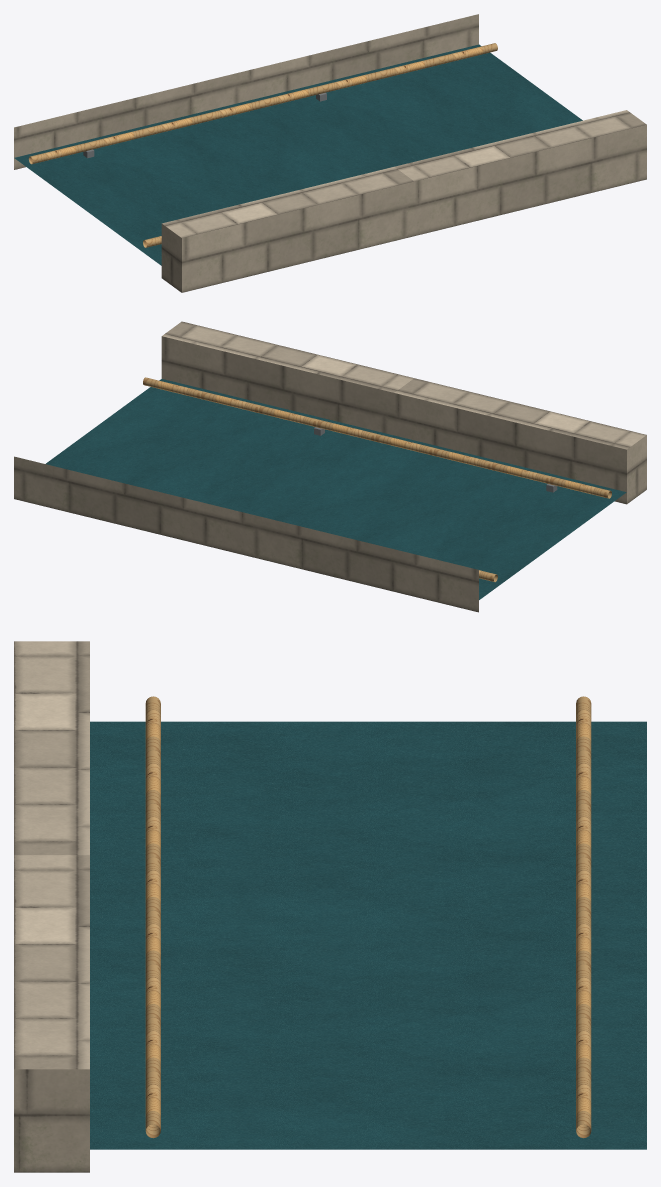
Rendered from SM_QUE_Flume_4m.fbx.
3 views of the same model, one above another, from view 1: azimuth 30°, elevation 25°; view 2: azimuth 150°, elevation 25°; view 3: azimuth 270°, elevation 25° (orthographic). The views are drawn at different scales.
Parts seen in each view (by area): view 1: SM_QUE_Flume_4m; view 2: SM_QUE_Flume_4m; view 3: SM_QUE_Flume_4m.
Part boxes in pixels (box(x1,y1,x2,y2)): SM_QUE_Flume_4m: box(14, 14, 646, 292); SM_QUE_Flume_4m: box(14, 321, 646, 612); SM_QUE_Flume_4m: box(14, 641, 646, 1172).
Bounding box in the file's own units: 4 × 0.45 × 2.5.
